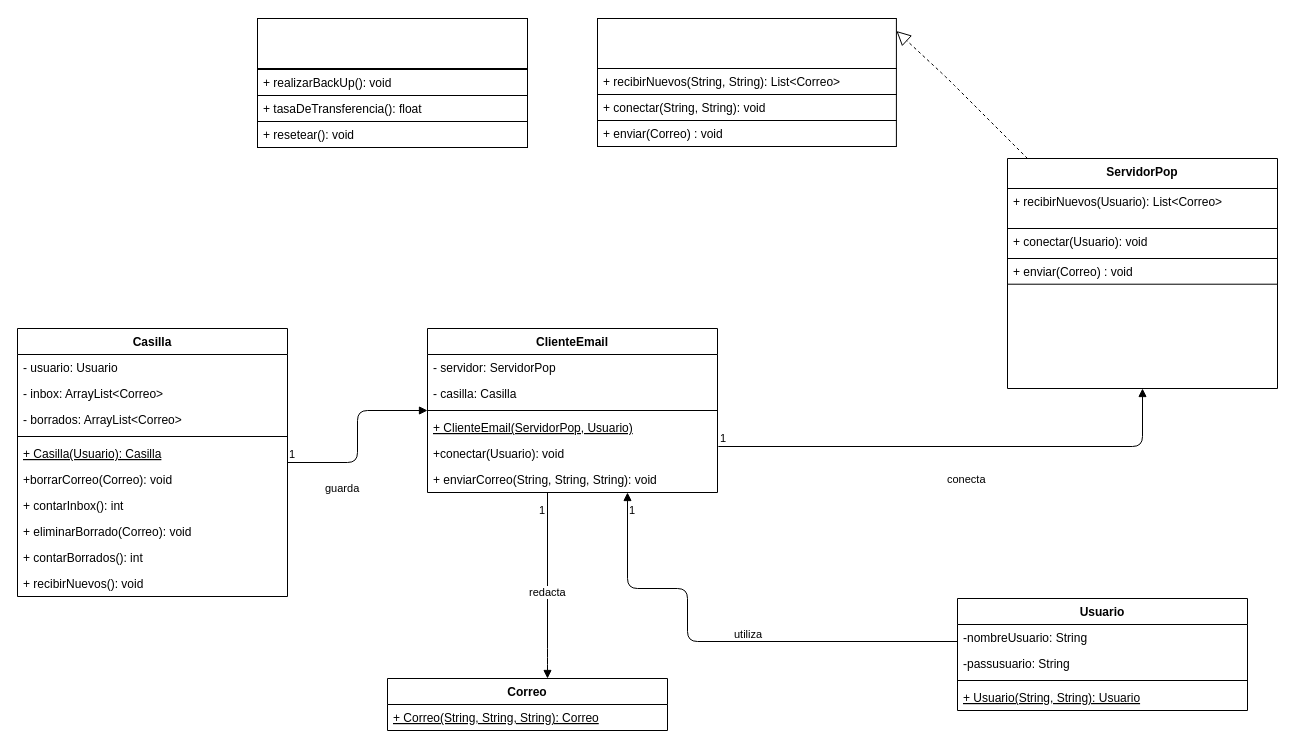
This 1305x750 diagram has some shape labels left out. The centre of each missing label's shape, as x and y in pixels:
"«interface» IOtroTipoServidor" goes at [392,43].
"«interface» IServidor" goes at [746,43].
